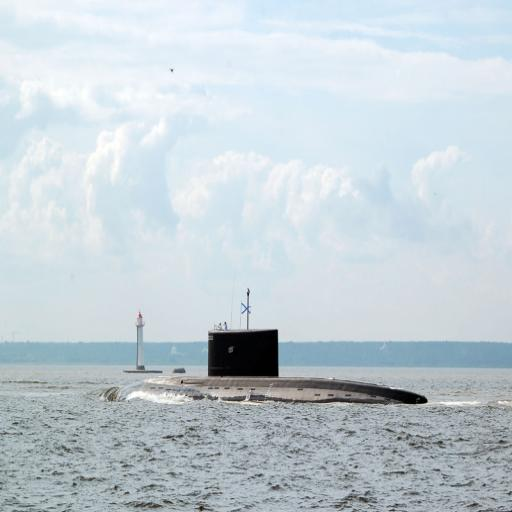submarine: (105, 330, 430, 404)
